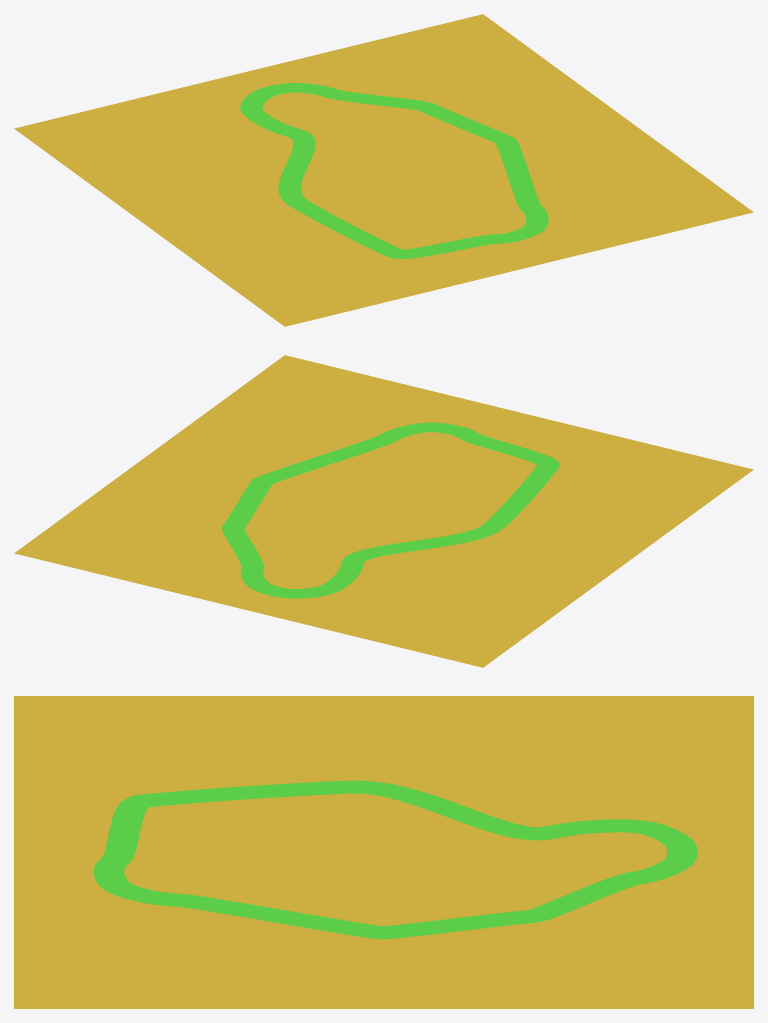
The model's file is race_track_7_v2.fbx.
The picture shows the model from 3 angles, top to bottom: view 1: azimuth 30°, elevation 25°; view 2: azimuth 150°, elevation 25°; view 3: azimuth 270°, elevation 25°; orthographic projection. The views are drawn at different scales.
Visible parts, largest first — view 1: Ground, Racetrack; view 2: Ground, Racetrack; view 3: Ground, Racetrack.
Boxes of the visible parts, x1=… form: Ground: x1=14, y1=14, x2=753, y2=326; Racetrack: x1=240, y1=83, x2=548, y2=258; Ground: x1=14, y1=355, x2=753, y2=667; Racetrack: x1=222, y1=422, x2=560, y2=598; Ground: x1=14, y1=696, x2=753, y2=1008; Racetrack: x1=93, y1=780, x2=697, y2=939.
Size of the model in its own units: 4800 by 2.23 by 4800.
